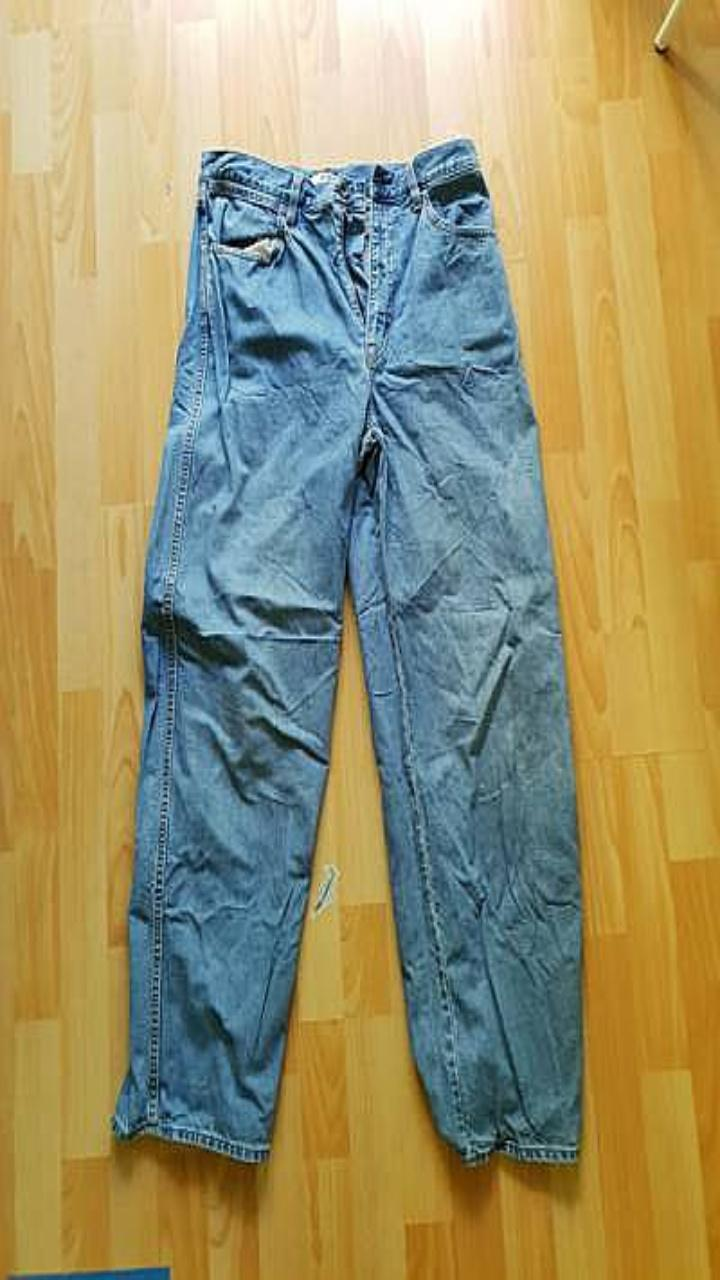Jeans: (111, 136, 582, 1163)
